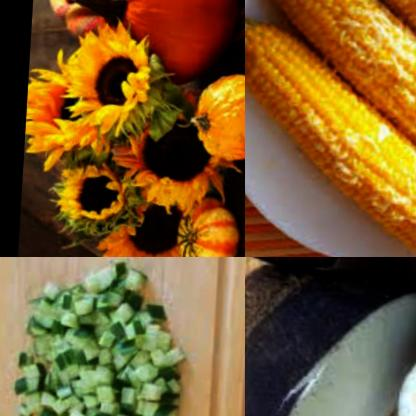corn: (245, 9, 416, 257), (247, 0, 416, 190), (308, 0, 416, 113)
cucumber: (0, 257, 202, 416)
pumpkin: (60, 0, 234, 79), (188, 57, 245, 154), (178, 180, 243, 257)
redka: (245, 257, 416, 416)
